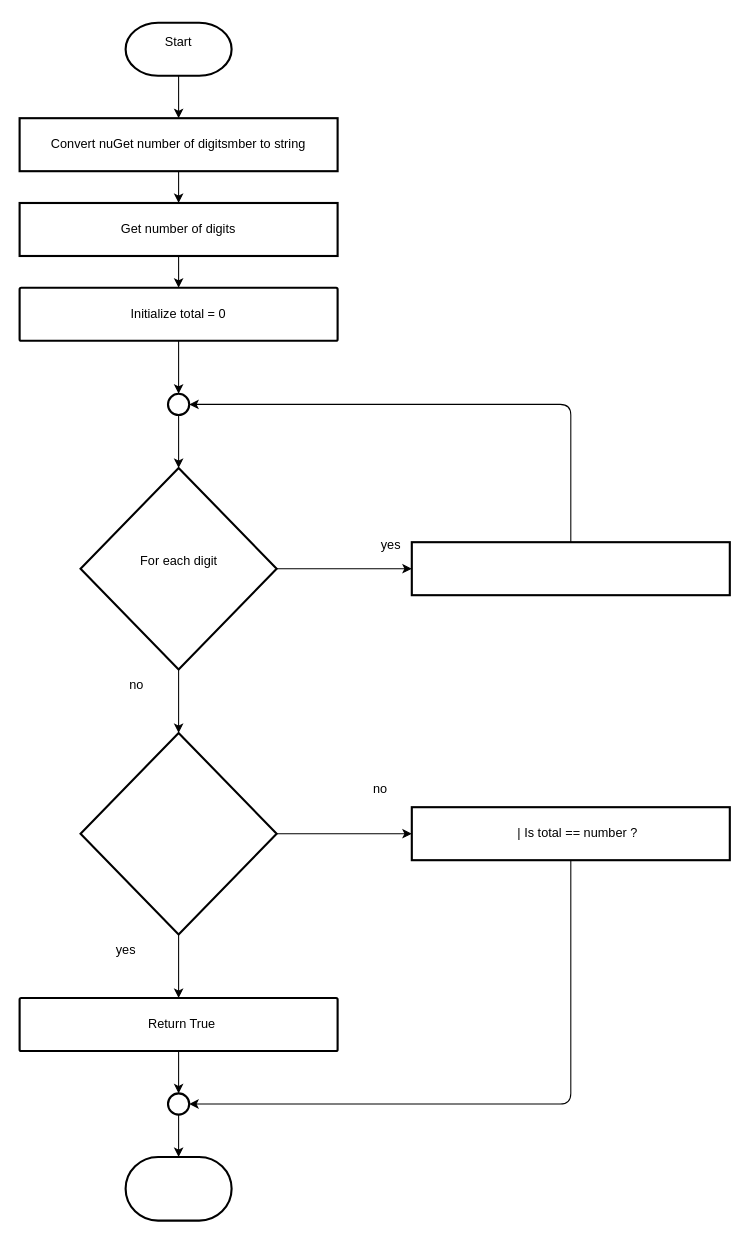
This 748x1239 diagram has some shape labels left out. Each missing label, with the centre of its shape:
"Is total equal to number?" goes at point 178,833.
"stop" goes at point 178,1188.
"total = total + digit^num_digits" goes at point 570,568.
